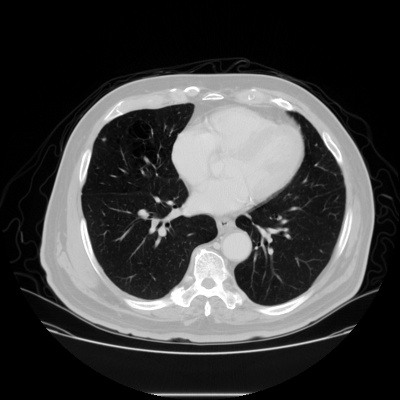PN: (101, 137, 105, 141)
